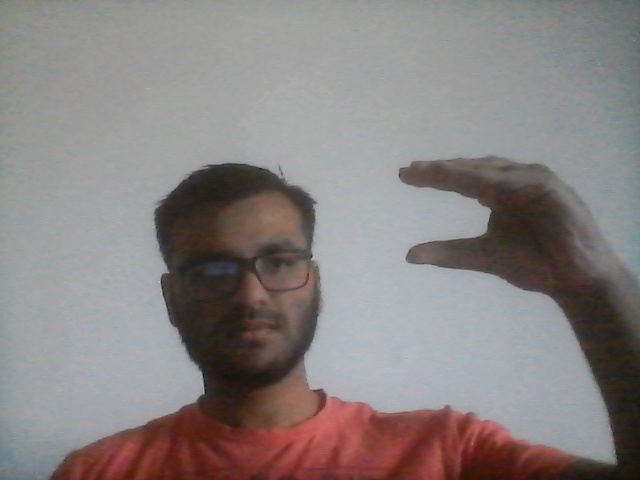No: (392, 151, 627, 298)
